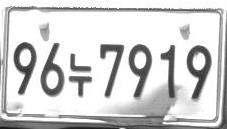1: (157, 45, 183, 98)
6: (39, 42, 65, 97)
7: (99, 43, 124, 98)
9: (186, 45, 212, 100), (128, 43, 152, 98), (12, 41, 36, 95)
누: (69, 53, 92, 97)
